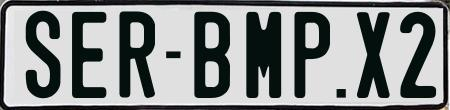2: (398, 11, 435, 97)
B: (194, 12, 233, 101)
E: (72, 9, 112, 99)
M: (244, 12, 283, 104)
P: (291, 9, 328, 101)
R: (116, 9, 152, 98)
S: (23, 8, 58, 99)
X: (355, 9, 389, 99)
